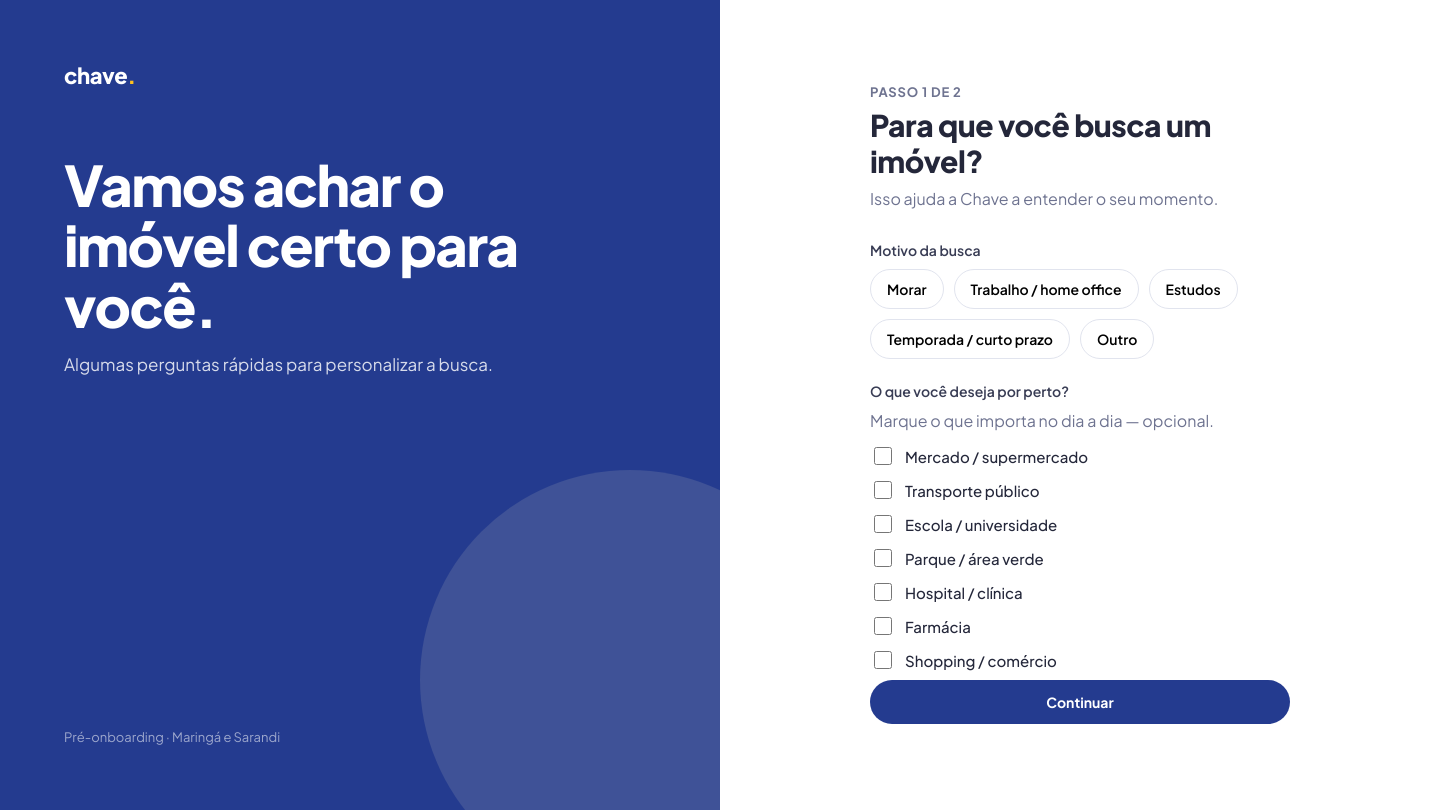
OnboardingRentPage › requires purpose before continuing
This screenshot has width=1440, height=810.
Expected: the heading "Para que você busca um imóvel?" is shown, x1=870 y1=106 x2=1211 y2=180
Click the button "Continuar".
click(1080, 702)  # box x1=870 y1=680 x2=1290 y2=724
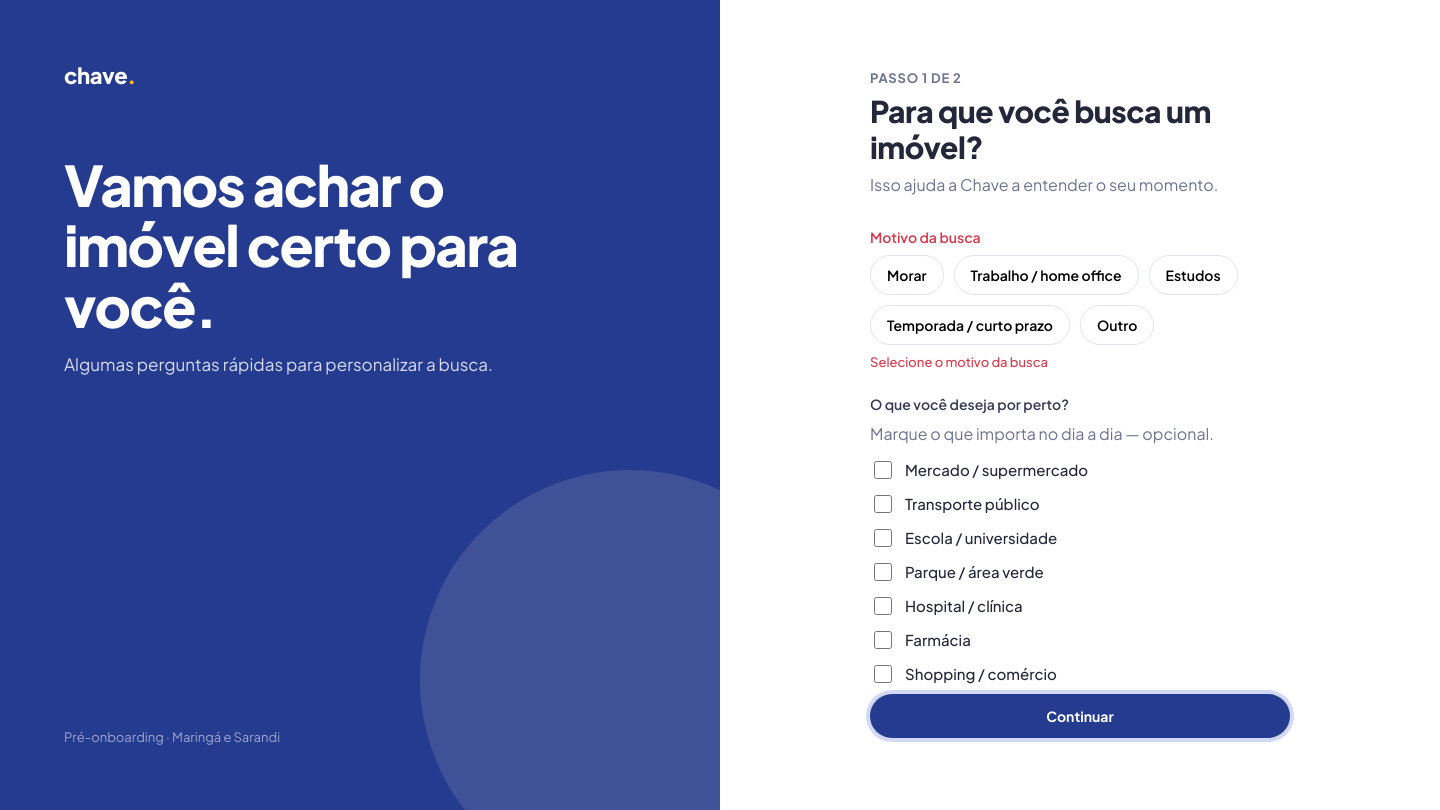
Expected: the text "Selecione o motivo da busca" is shown, x1=870 y1=354 x2=1048 y2=370
